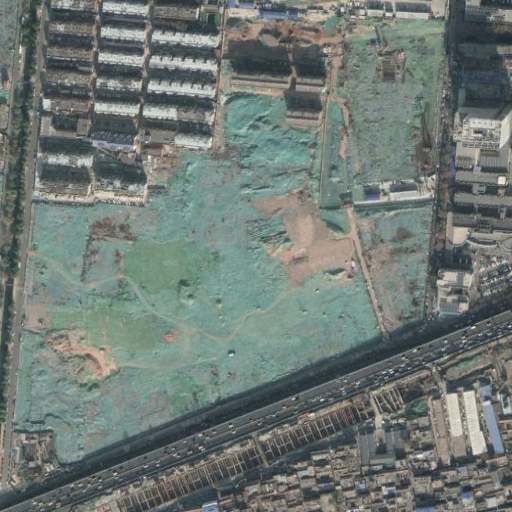cw: (15, 17, 448, 464)
